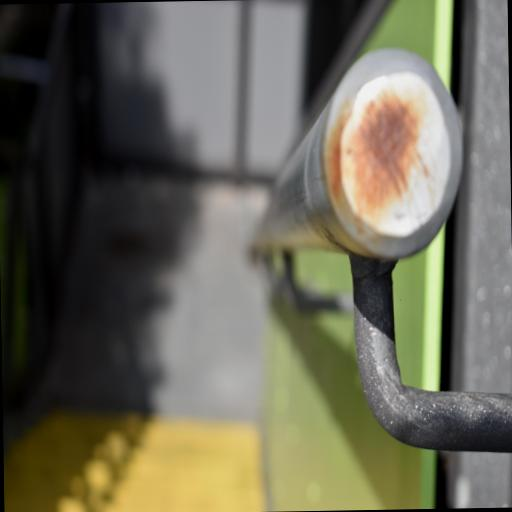segmentation: (327, 72, 451, 237)
